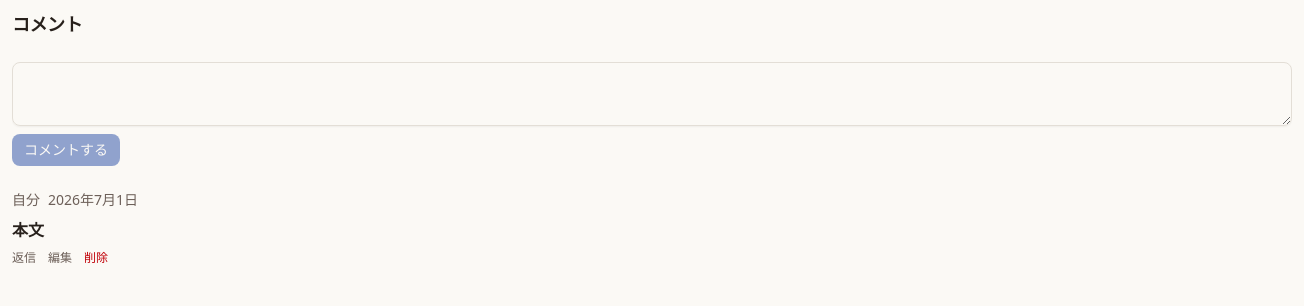
Test: CommentSection › 削除がネットワーク例外で失敗するとエラーメッセージを表示する
Click the button "削除". click: (96, 258)
box: [84,250,108,266]
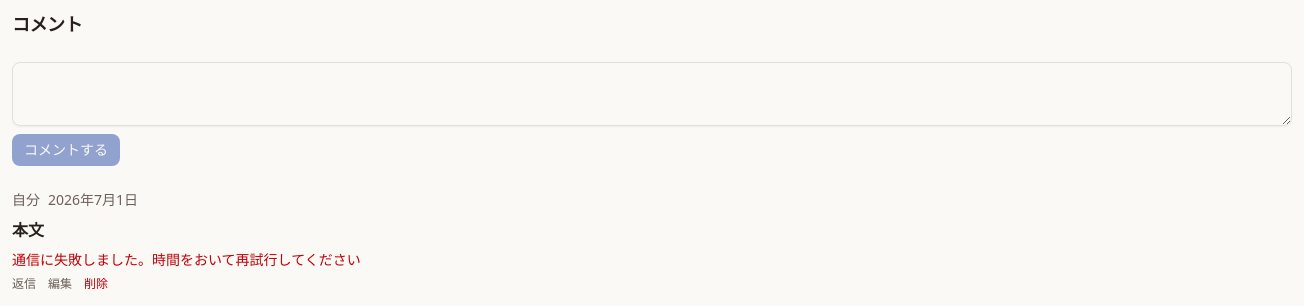
Expected: the text "通信に失敗しました。時間をおいて再試行してください" is shown, [12,250,361,269]
